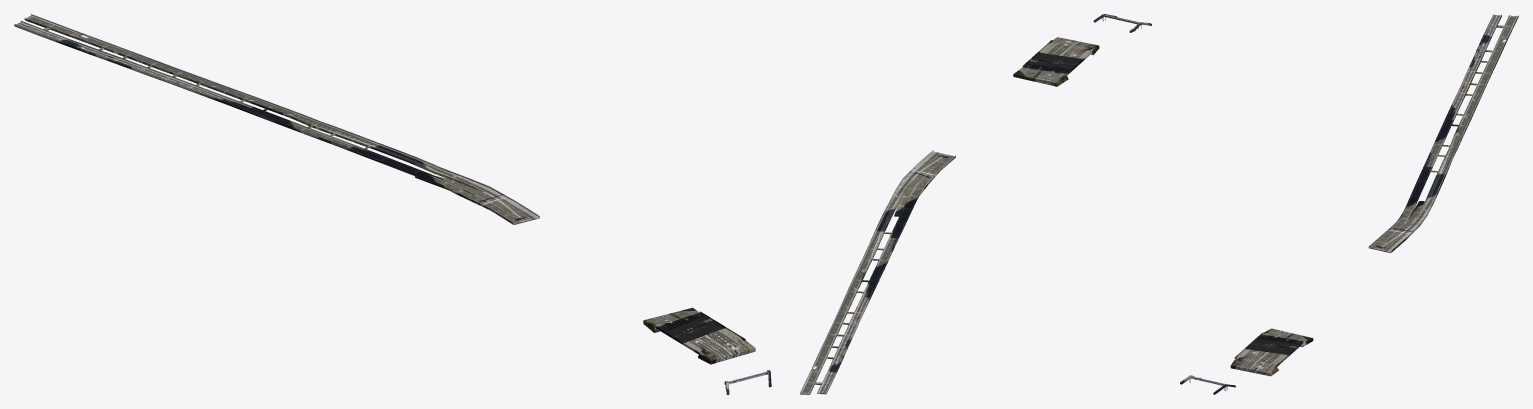
Rendered from 53394622_brid.glb.
The picture shows the model from 3 angles, left to right: view 1: azimuth 30°, elevation 25°; view 2: azimuth 150°, elevation 25°; view 3: azimuth 330°, elevation 25°; orthographic projection. The views are drawn at different scales.
Visible parts, largest first — view 1: 53394622_brid; view 2: 53394622_brid; view 3: 53394622_brid.
Part boxes in pixels (left/top/right/bottom): 53394622_brid: left=14, top=14, right=771, bottom=394; 53394622_brid: left=800, top=14, right=1151, bottom=394; 53394622_brid: left=1180, top=14, right=1518, bottom=394.
Bounding box in the file's own units: 218 × 12.53 × 892.
Materials: 1 (1 with a texture image).
